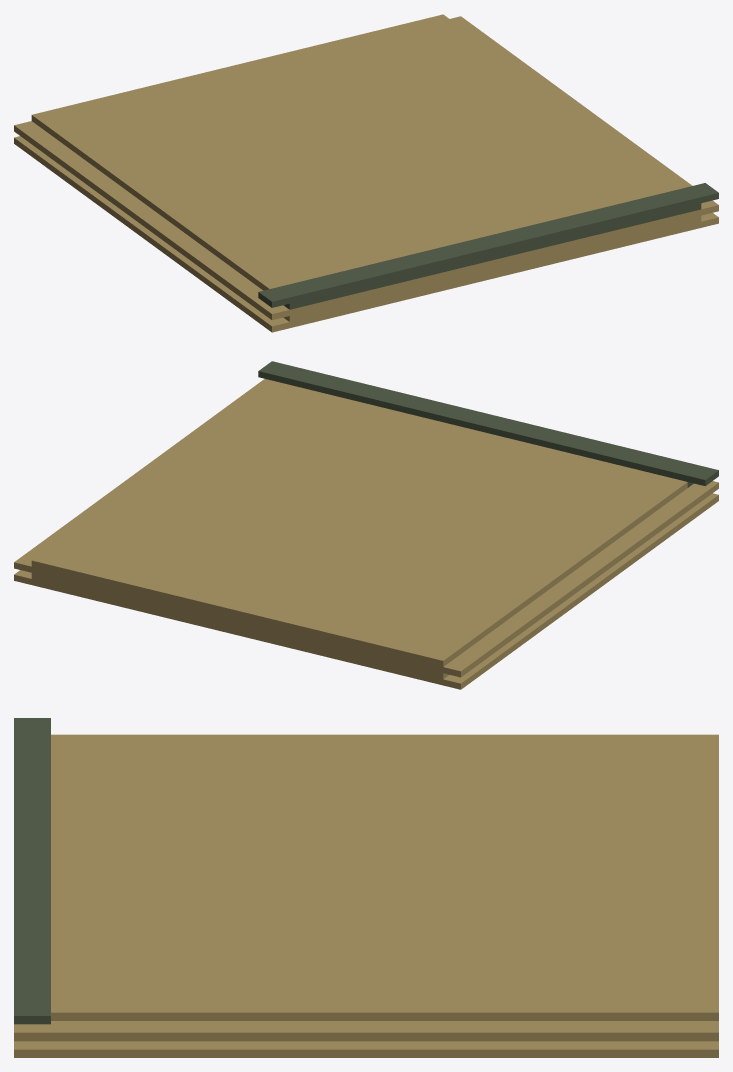
The model's file is sheet_nomex.glb.
3 renders of one model, top to bottom at view 1: azimuth 30°, elevation 25°; view 2: azimuth 150°, elevation 25°; view 3: azimuth 270°, elevation 25°, orthographic. The views are drawn at different scales.
Visible parts, largest first — view 1: sheet_nomex:compound; view 2: sheet_nomex:compound; view 3: sheet_nomex:compound.
Boxes of the visible parts, x1=… form: sheet_nomex:compound: x1=14, y1=14, x2=718, y2=332; sheet_nomex:compound: x1=14, y1=361, x2=718, y2=689; sheet_nomex:compound: x1=14, y1=718, x2=718, y2=1057.
Size of the model in its own units: 0.152 by 0.01 by 0.152.
